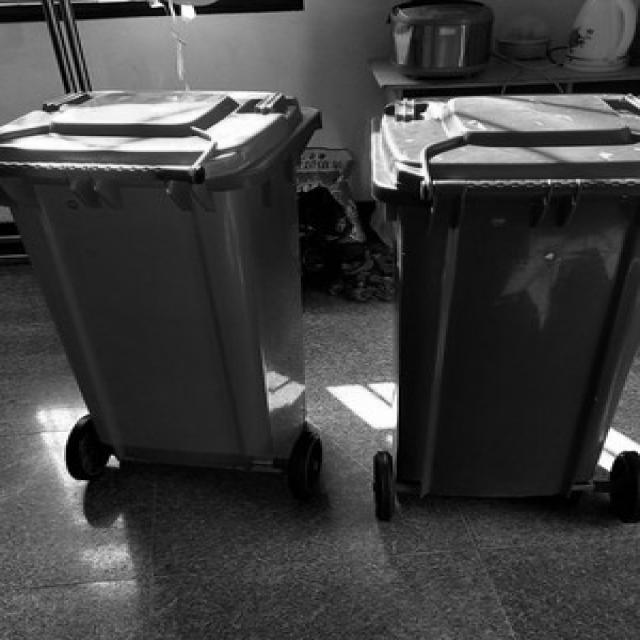ash bin: (2, 88, 320, 491), (365, 88, 638, 520)
